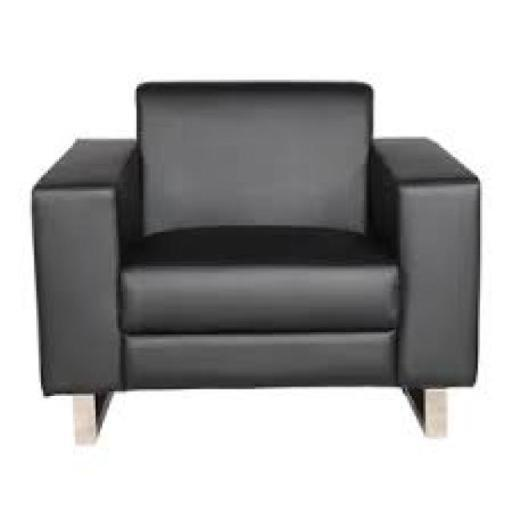sofa: (8, 48, 512, 474)
